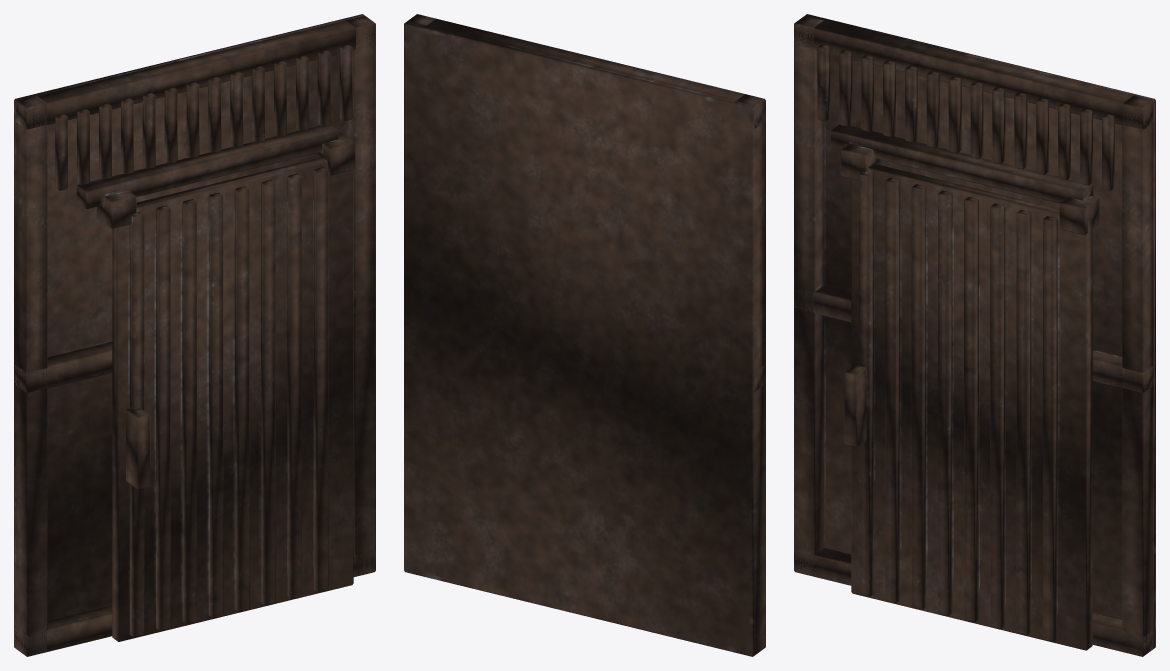
Rendered from Galpon_ParedPorton.fbx.
3 views of the same model, side by side, from view 1: azimuth 30°, elevation 25°; view 2: azimuth 150°, elevation 25°; view 3: azimuth 330°, elevation 25° (orthographic).
Visible parts, largest first — view 1: Galpon_ParedPorton; view 2: Galpon_ParedPorton; view 3: Galpon_ParedPorton.
Boxes of the visible parts, bbox=[...] form: Galpon_ParedPorton: bbox=[14, 14, 375, 656]; Galpon_ParedPorton: bbox=[404, 14, 765, 656]; Galpon_ParedPorton: bbox=[794, 14, 1155, 656].
Size of the model in its own units: 8 by 12 by 1.72.
